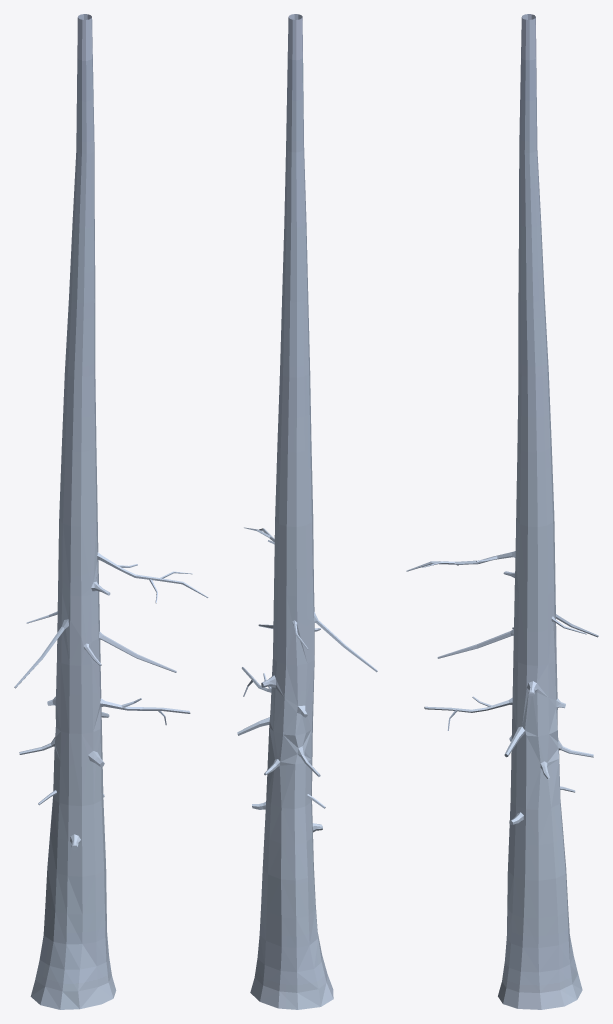
The model's file is Dynamic_Tree_03.fbx.
The picture shows the model from 3 angles, left to right: view 1: azimuth 90°, elevation 25°; view 2: azimuth 210°, elevation 25°; view 3: azimuth 270°, elevation 25°; orthographic projection.
Parts seen in each view (by area): view 1: SM_Tree_03_Dynamic.mo; view 2: SM_Tree_03_Dynamic.mo; view 3: SM_Tree_03_Dynamic.mo.
Boxes of the visible parts, left/top/right/bottom form: SM_Tree_03_Dynamic.mo: left=14, top=14, right=208, bottom=1009; SM_Tree_03_Dynamic.mo: left=237, top=14, right=377, bottom=1009; SM_Tree_03_Dynamic.mo: left=406, top=14, right=598, bottom=1009.
Size of the model in its own units: 186 by 1810 by 325.
